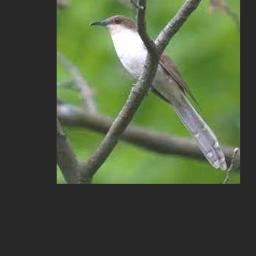Cuckoo: (90, 14, 226, 170)
